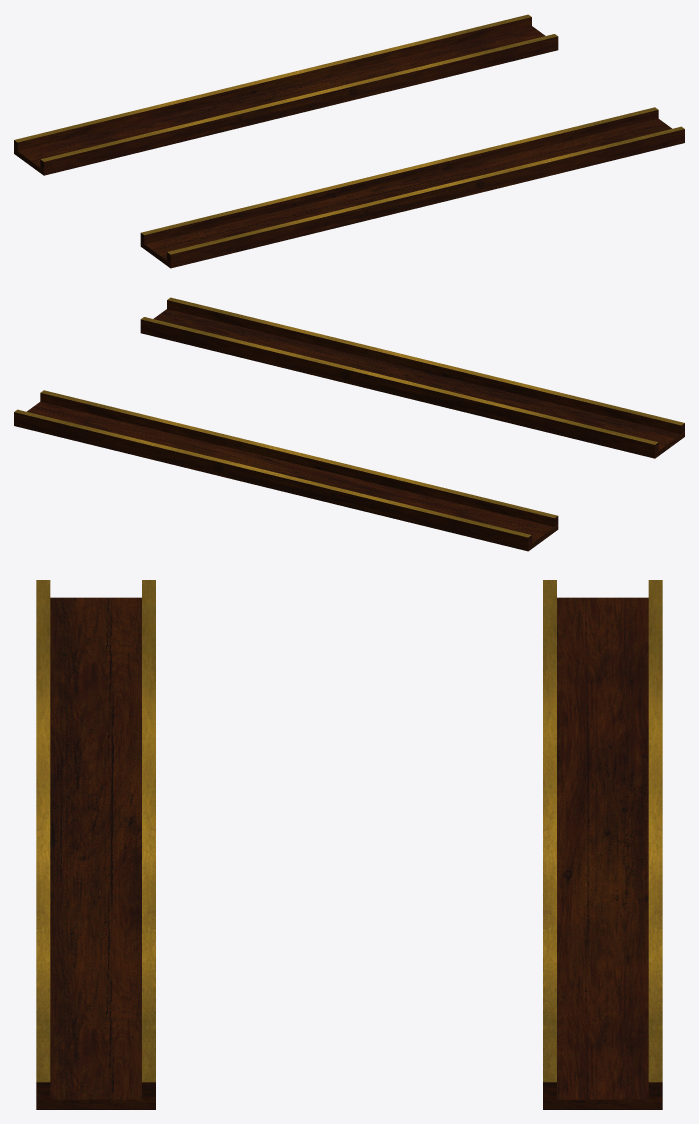
The model's file is bear_rails.DAE.
The picture shows the model from 3 angles, top to bottom: view 1: azimuth 30°, elevation 25°; view 2: azimuth 150°, elevation 25°; view 3: azimuth 270°, elevation 25°; orthographic projection. The views are drawn at different scales.
Parts seen in each view (by area): view 1: runners; view 2: runners; view 3: runners.
Part boxes in pixels (bbox=[...]): runners: bbox=[14, 14, 684, 268]; runners: bbox=[14, 297, 684, 551]; runners: bbox=[36, 580, 662, 1109].
Bounding box in the file's own units: 1.88 × 0.0482 × 0.9889.
